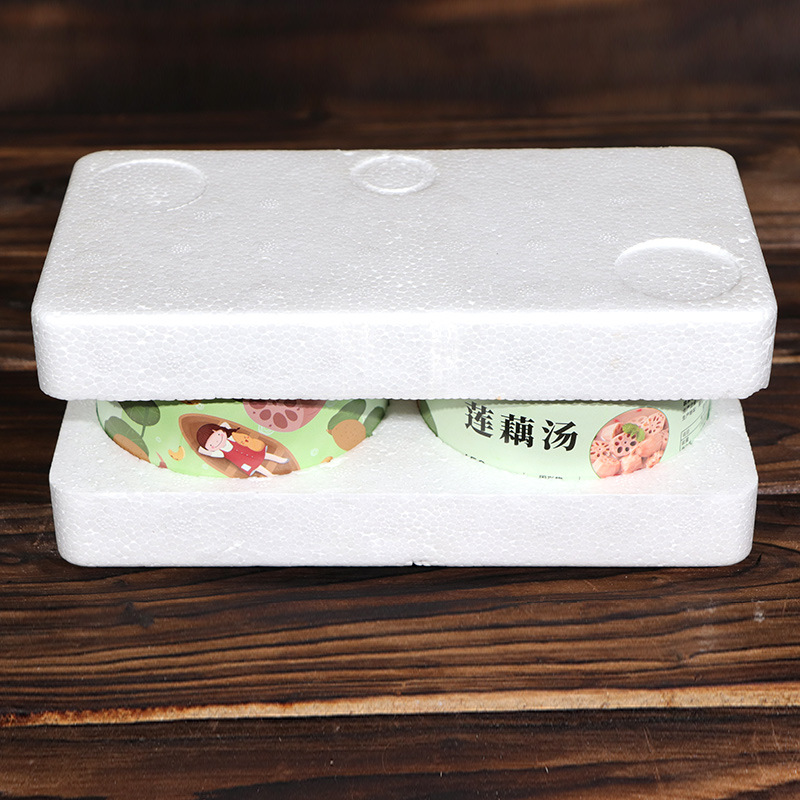Parcel: (33, 148, 776, 564)
